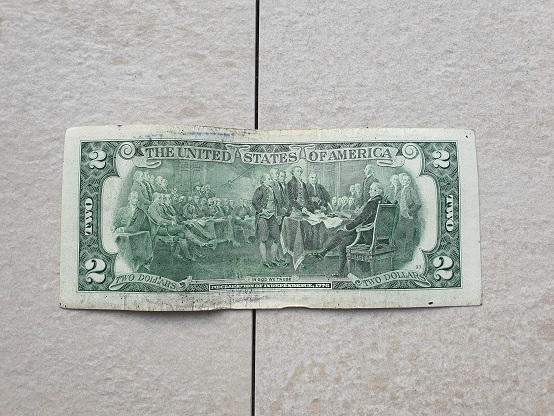2dollar: (59, 123, 486, 310)
